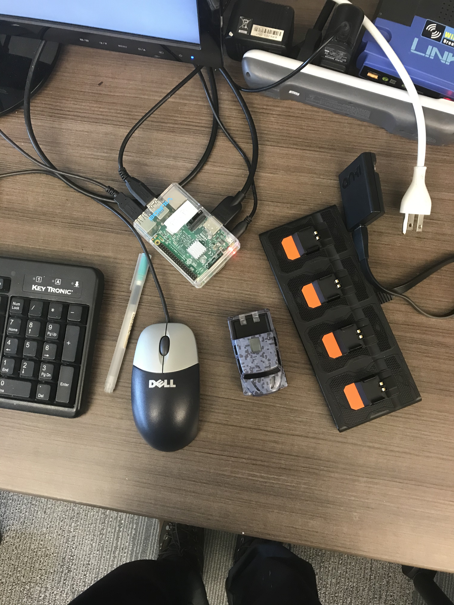MXT: (225, 307, 290, 397)
